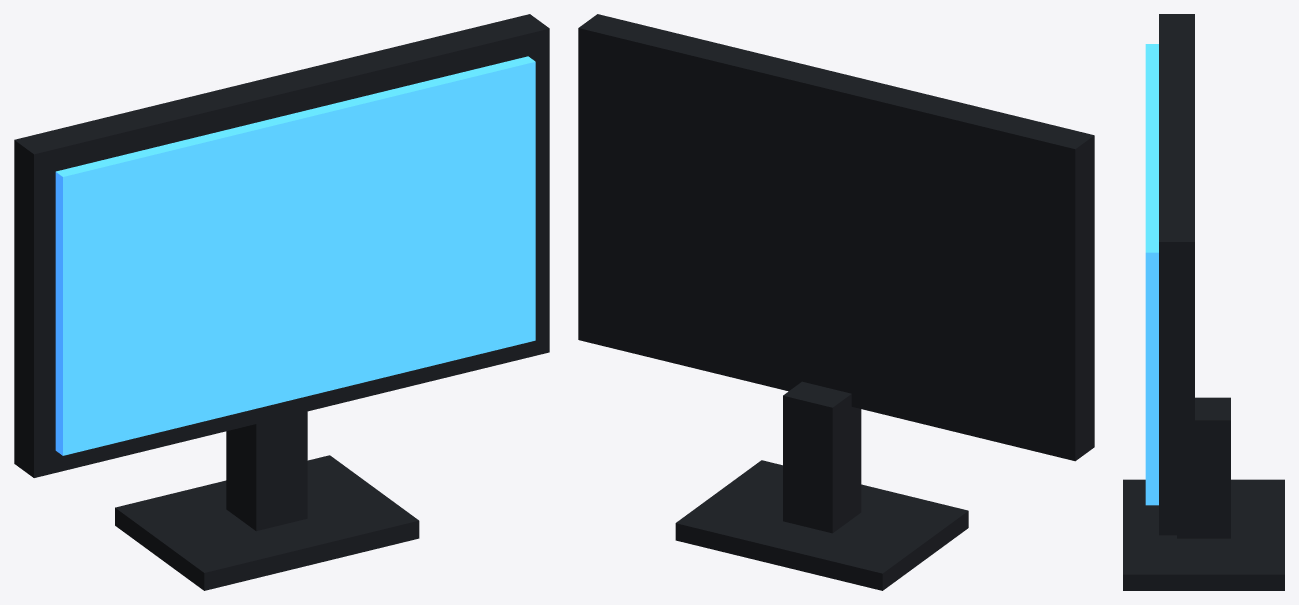
Rendered from monitor.glb.
3 views of the same model, side by side, from view 1: azimuth 30°, elevation 25°; view 2: azimuth 150°, elevation 25°; view 3: azimuth 270°, elevation 25° (orthographic). The views are drawn at different scales.
Parts seen in each view (by area): view 1: monitor; view 2: monitor; view 3: monitor.
Boxes of the visible parts, x1,y1,x2,y2 form: monitor: (14, 14, 549, 590); monitor: (578, 14, 1094, 590); monitor: (1123, 14, 1284, 590).
Size of the model in its own units: 0.6 by 0.51 by 0.18.
